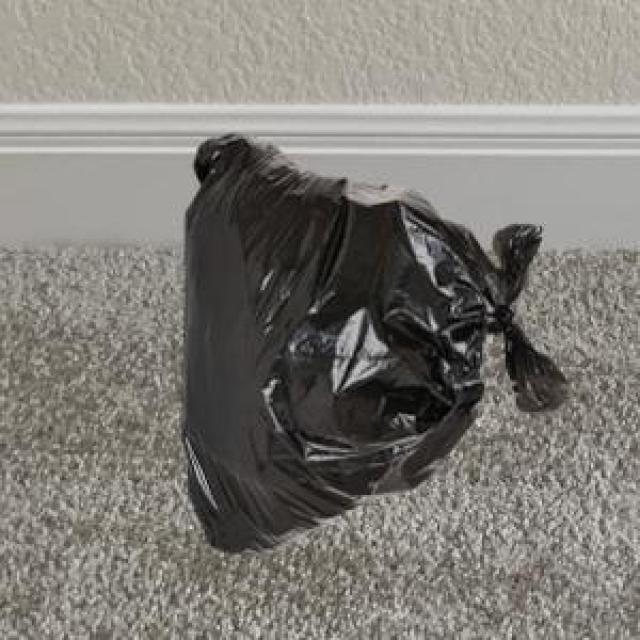waste: (182, 135, 564, 551)
